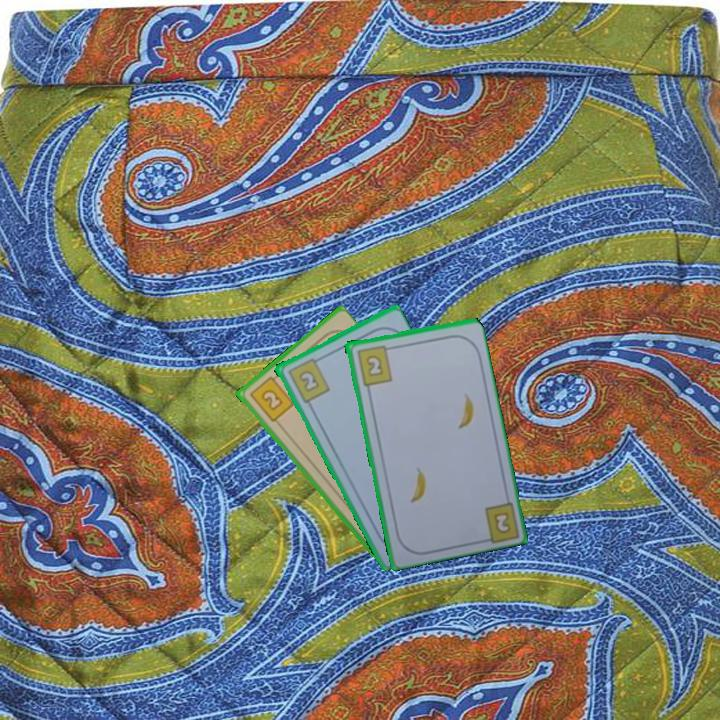2b: (246, 370, 296, 425), (284, 354, 332, 405), (353, 341, 395, 388), (492, 511, 511, 534)
